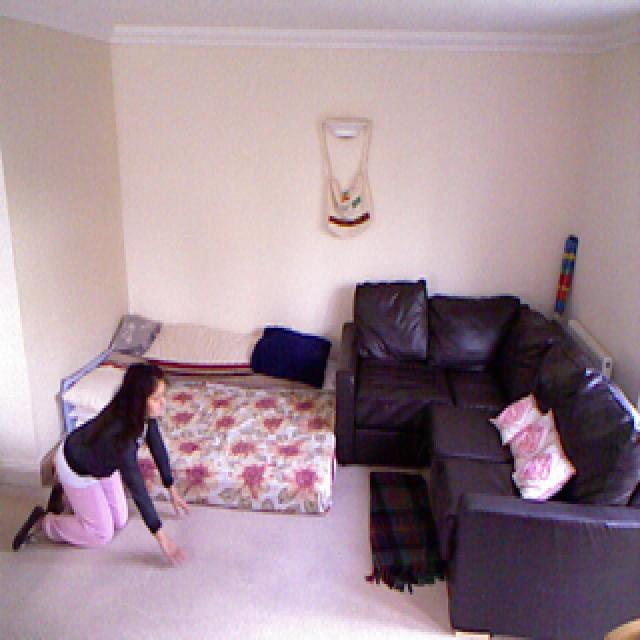crawling: (13, 364, 188, 569)
